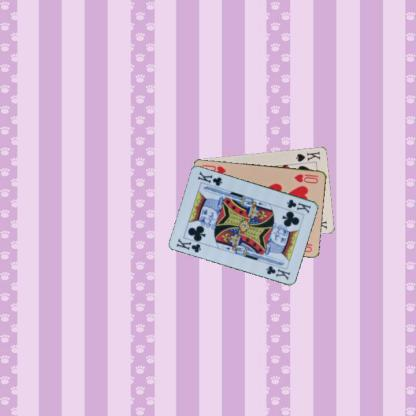10h: (292, 171, 319, 184)
Kc: (174, 235, 203, 254), (284, 196, 312, 215)
Ks: (293, 148, 322, 162)
